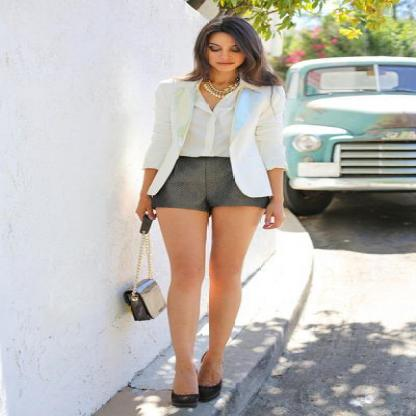jacket: (135, 80, 286, 204)
shirt: (177, 77, 261, 157)
shoe: (192, 381, 222, 402)
shorts: (148, 155, 291, 220)
